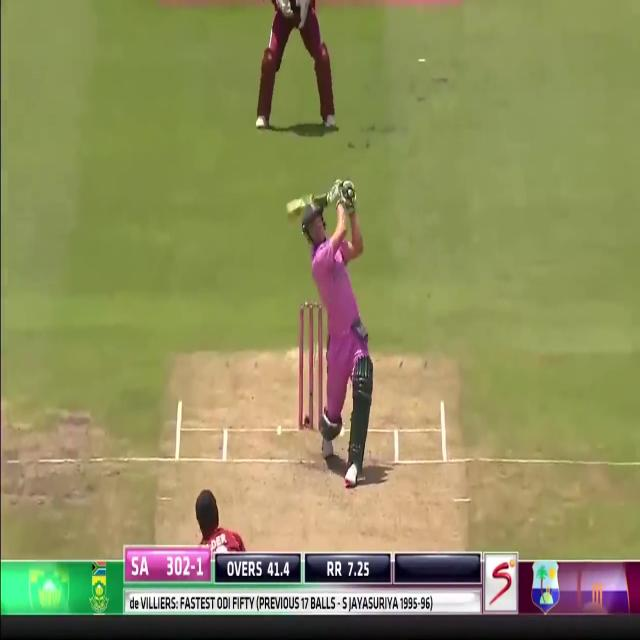Ball: (296, 175, 372, 483)
Fielder: (294, 173, 374, 487), (254, 0, 304, 130), (297, 1, 339, 130)
